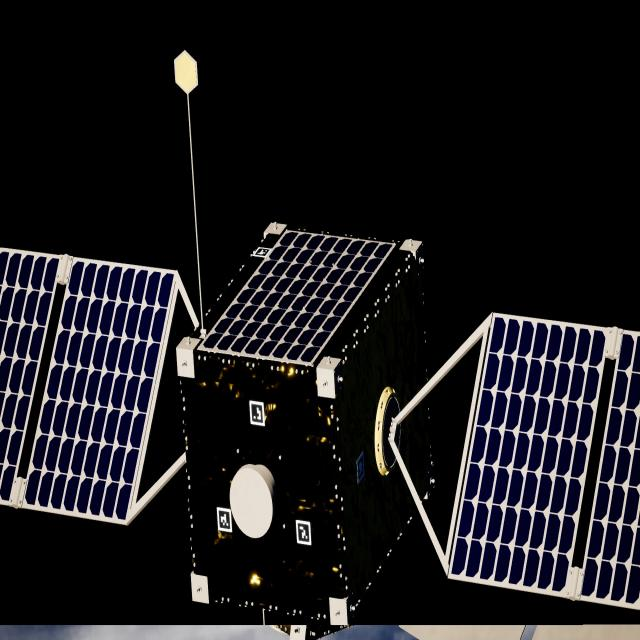medium_debris: (0, 222, 640, 609)
